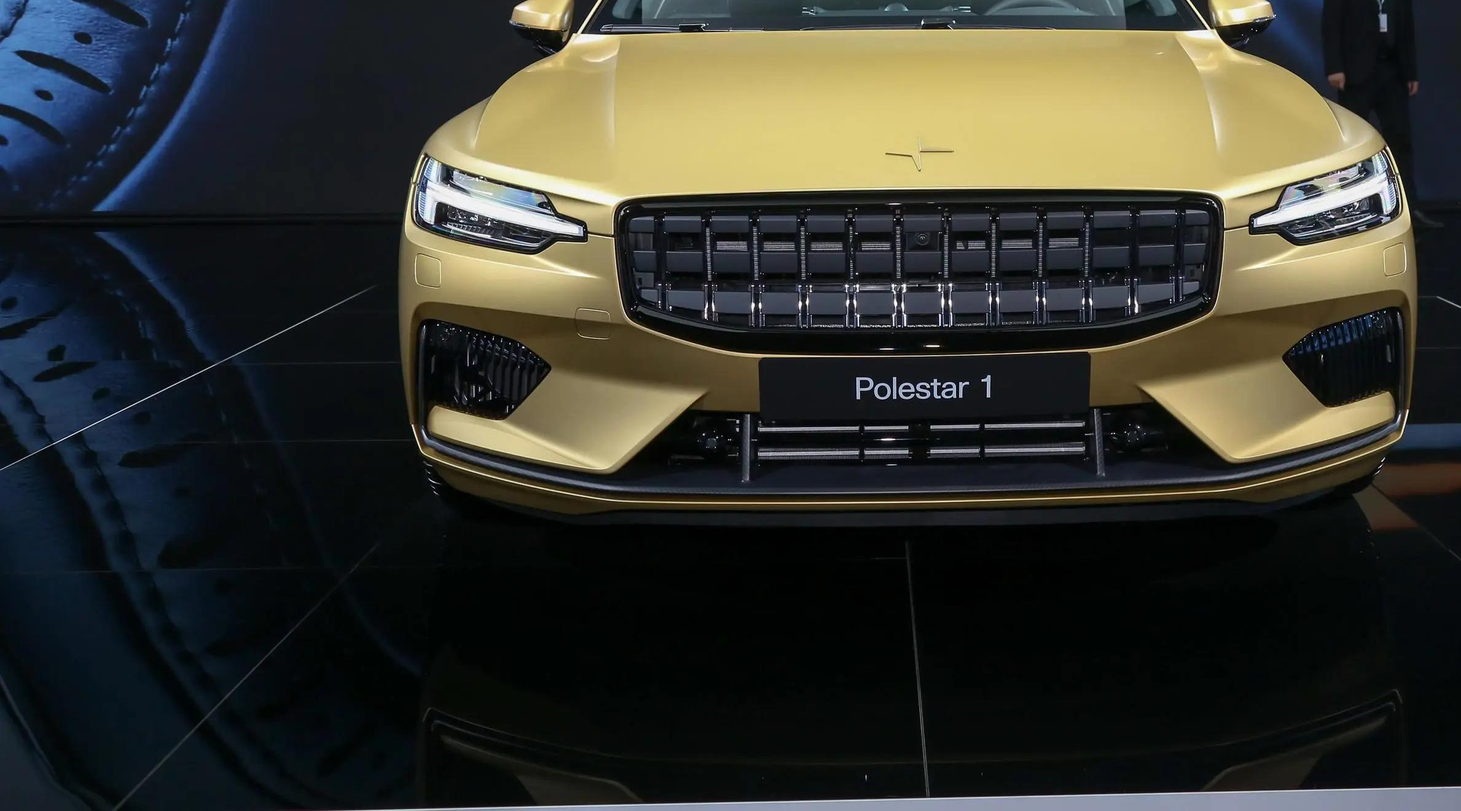Polestar: (886, 136, 954, 171)
